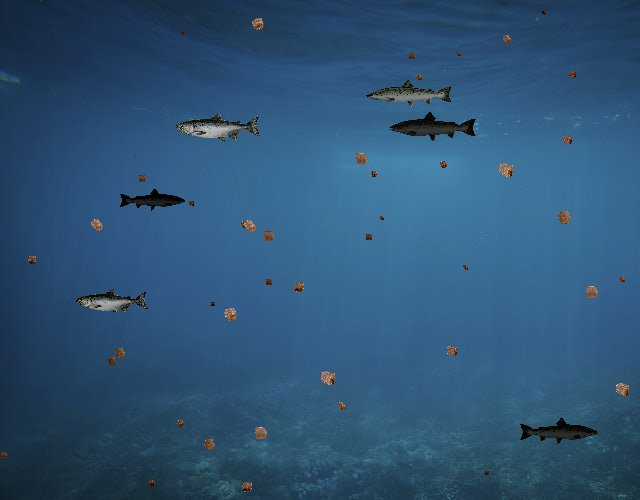Fish: (389, 110, 479, 143), (368, 78, 454, 109), (176, 112, 262, 143), (519, 416, 600, 445), (77, 288, 150, 315), (118, 188, 186, 212), (365, 87, 412, 104)
Pellet: (247, 420, 274, 447), (349, 146, 374, 171), (235, 476, 258, 498), (497, 29, 517, 49), (362, 230, 376, 244), (185, 197, 198, 210), (454, 48, 464, 58)
